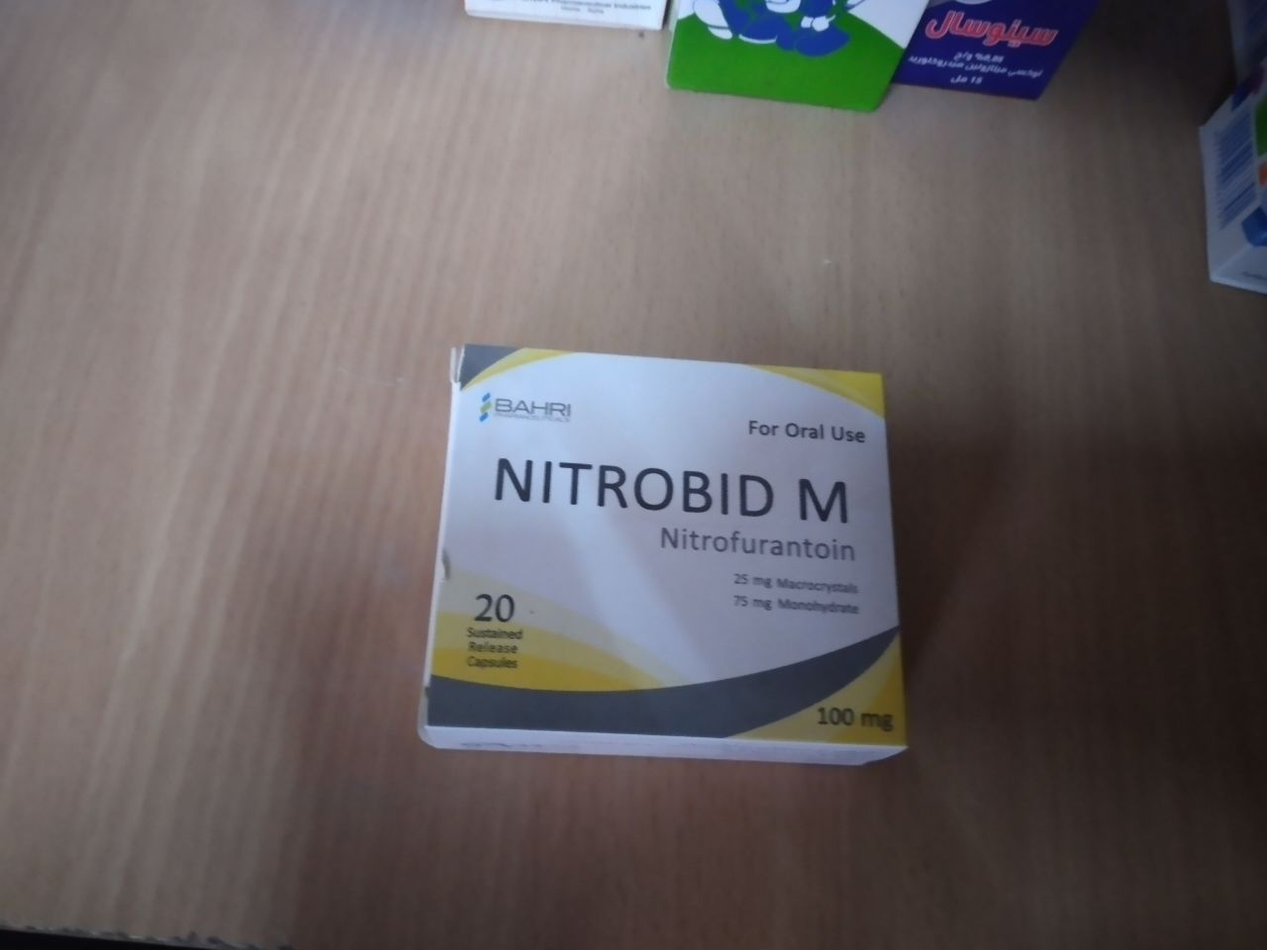Medicine: (416, 336, 916, 784)
